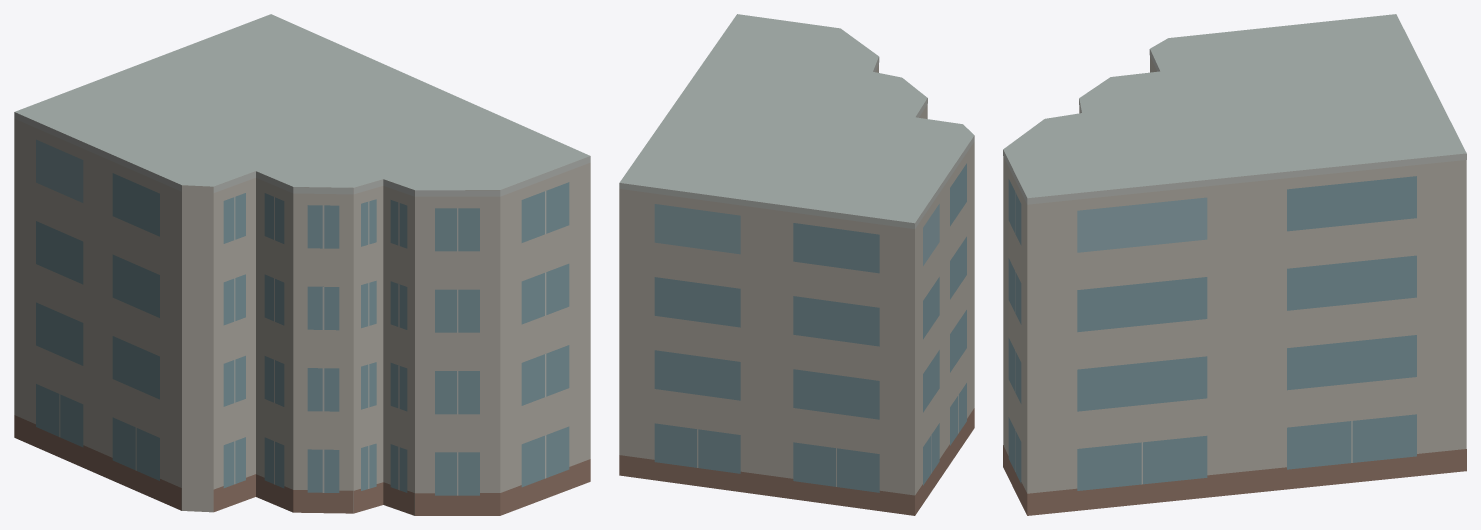
File: survey-upis-32812518.glb
3 views of the same model, side by side, from view 1: azimuth 30°, elevation 25°; view 2: azimuth 150°, elevation 25°; view 3: azimuth 270°, elevation 25° (orthographic). The views are drawn at different scales.
Parts seen in each view (by area): view 1: survey-upis-32812518.tmp; view 2: survey-upis-32812518.tmp; view 3: survey-upis-32812518.tmp.
Boxes of the visible parts, bbox=[...] form: survey-upis-32812518.tmp: bbox=[14, 14, 590, 515]; survey-upis-32812518.tmp: bbox=[619, 14, 974, 515]; survey-upis-32812518.tmp: bbox=[1003, 14, 1466, 515].
Size of the model in its own units: 14.93 by 12 by 15.89.
